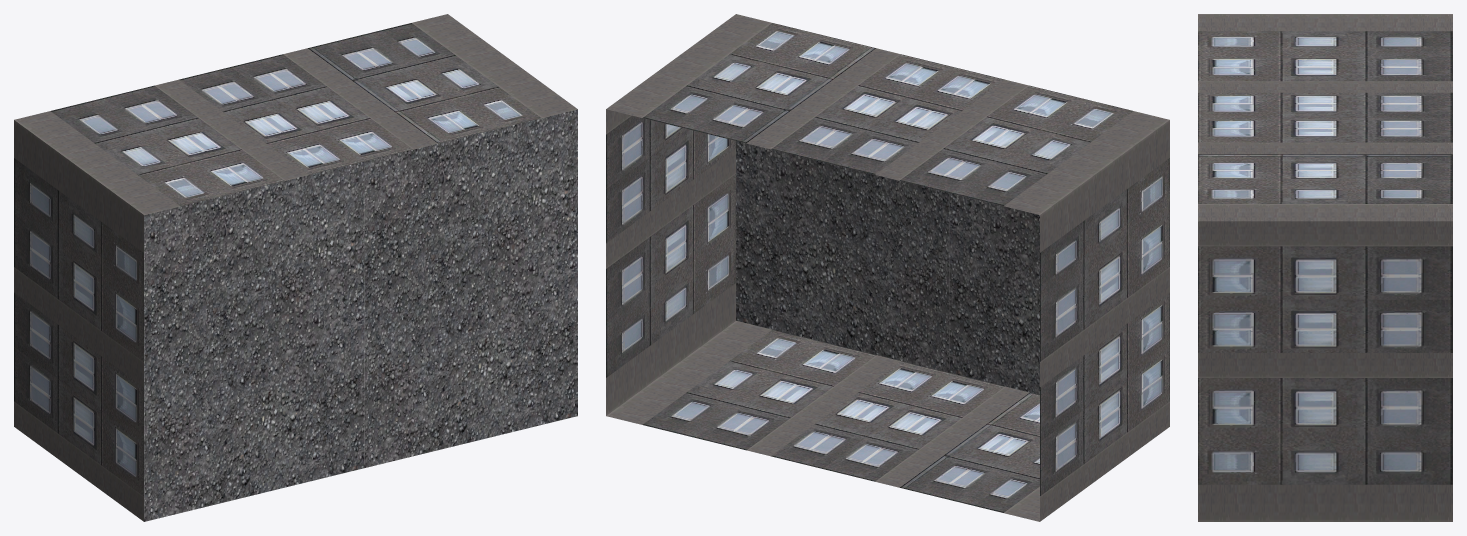
The model's file is mp_nuketown_2020_vista_bldg_10_LOD0.obj.
The picture shows the model from 3 angles, left to right: view 1: azimuth 30°, elevation 25°; view 2: azimuth 150°, elevation 25°; view 3: azimuth 270°, elevation 25°; orthographic projection. The views are drawn at different scales.
Parts seen in each view (by area): view 1: mp_m_vista_bldgs_01; view 2: mp_m_vista_bldgs_01; view 3: mp_m_vista_bldgs_01.
Boxes of the visible parts, bbox=[...] form: mp_m_vista_bldgs_01: bbox=[14, 14, 577, 521]; mp_m_vista_bldgs_01: bbox=[606, 14, 1169, 521]; mp_m_vista_bldgs_01: bbox=[1198, 14, 1452, 521].
Bounding box in the file's own units: 1819 × 1229 × 945.
1 material, 1 textured.
